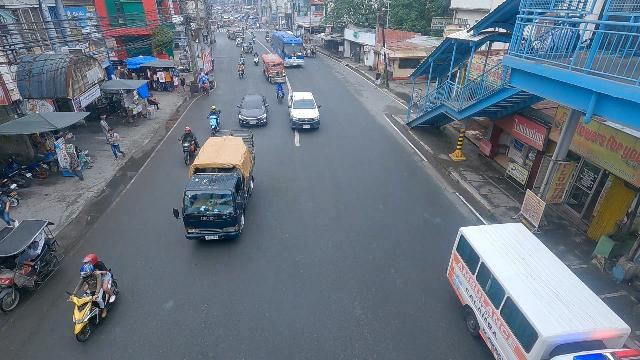bus: (273, 31, 305, 68)
car: (236, 92, 269, 128)
jeepney: (261, 53, 288, 83), (226, 27, 243, 41), (217, 19, 232, 27)
motorcycle: (66, 260, 122, 345), (179, 127, 200, 166), (206, 107, 222, 132), (274, 84, 286, 104), (237, 64, 245, 79), (252, 53, 260, 66), (239, 54, 245, 66), (265, 33, 270, 42), (252, 33, 256, 43), (251, 23, 255, 30)
truck: (179, 131, 257, 243), (287, 91, 322, 132)
van: (447, 224, 634, 357)
